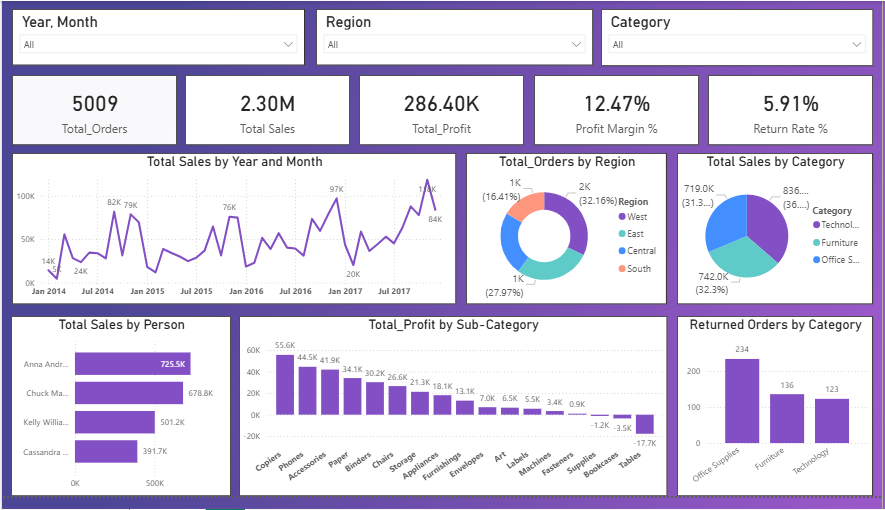

This screenshot's page, from the dashboard's own definition file:
{"tool":"powerbi","page":{"name":"Sales Dashboard","canvas":[1280,720],"ordinal":0},"visuals":[{"type":"card","fields":{"Values":["Orders.Total Sales"]},"box":[266.2,107.6,240,101.8],"z":0},{"type":"card","fields":{"Values":["Orders.Total_Profit"]},"box":[519.3,107.6,240,101.8],"z":1000},{"type":"card","fields":{"Values":["Orders.Profit Margin %"]},"box":[773.8,107.6,240,101.8],"z":2000},{"type":"card","fields":{"Values":["Orders.Total_Orders"]},"box":[14.5,107.6,240,101.8],"z":3000},{"type":"card","fields":{"Values":["Orders.Return Rate %"]},"box":[1026.9,107.6,240,101.8],"z":4000},{"type":"lineChart","fields":{"Y":["Orders.Total Sales"],"Category":["Orders.Order Date.Variation.Date Hierarchy.Year","Orders.Order Date.Variation.Date Hierarchy.Month"]},"box":[14.5,221.1,645.8,219.6],"z":5000},{"type":"pieChart","fields":{"Category":["Orders.Category"],"Y":["Orders.Total Sales"]},"box":[981.8,221.1,285.1,219.6],"z":6000},{"type":"columnChart","fields":{"Category":["Orders.Sub-Category"],"Y":["Orders.Total_Profit"]},"box":[344.7,458.2,622.5,261.8],"z":7000},{"type":"columnChart","fields":{"Category":["Orders.Category"],"Y":["Orders.Returned Orders"]},"box":[981.8,458.2,285.1,261.8],"z":8000},{"type":"clusteredBarChart","fields":{"Category":["People.Person"],"Y":["Orders.Total Sales"]},"box":[13.1,458.2,320,261.8],"z":9000},{"type":"donutChart","fields":{"Category":["Orders.Region"],"Y":["Orders.Total_Orders"]},"box":[674.9,221.1,292.4,219.6],"z":10000},{"type":"slicer","fields":{"Values":["Orders.Order Date.Variation.Date Hierarchy.Year","Orders.Order Date.Variation.Date Hierarchy.Month"]},"box":[14,12.2,425.5,82],"z":11000},{"type":"slicer","fields":{"Values":["Orders.Region"]},"box":[456.9,12.2,402.8,82],"z":12000},{"type":"slicer","fields":{"Values":["Orders.Category"]},"box":[871.3,11.6,395.6,82.9],"z":13000}]}

Visuals, with their boxes in screenshot pixels (x1, y1, x2, y2), scaled from the page's 1280x720 canvas onto the 885x510 screenshot:
card - Orders.Total Sales: 184, 76, 350, 148
card - Orders.Total_Profit: 359, 76, 525, 148
card - Orders.Profit Margin %: 535, 76, 701, 148
card - Orders.Total_Orders: 10, 76, 176, 148
card - Orders.Return Rate %: 710, 76, 876, 148
lineChart - Orders.Total Sales x Orders.Order Date.Variation.Date Hierarchy.Year: 10, 157, 457, 312
pieChart - Orders.Category x Orders.Total Sales: 679, 157, 876, 312
columnChart - Orders.Sub-Category x Orders.Total_Profit: 238, 325, 669, 509
columnChart - Orders.Category x Orders.Returned Orders: 679, 325, 876, 509
clusteredBarChart - People.Person x Orders.Total Sales: 9, 325, 230, 509
donutChart - Orders.Region x Orders.Total_Orders: 467, 157, 669, 312
slicer - Orders.Order Date.Variation.Date Hierarchy.Year x Orders.Order Date.Variation.Date Hierarchy.Month: 10, 9, 304, 67
slicer - Orders.Region: 316, 9, 594, 67
slicer - Orders.Category: 602, 8, 876, 67
